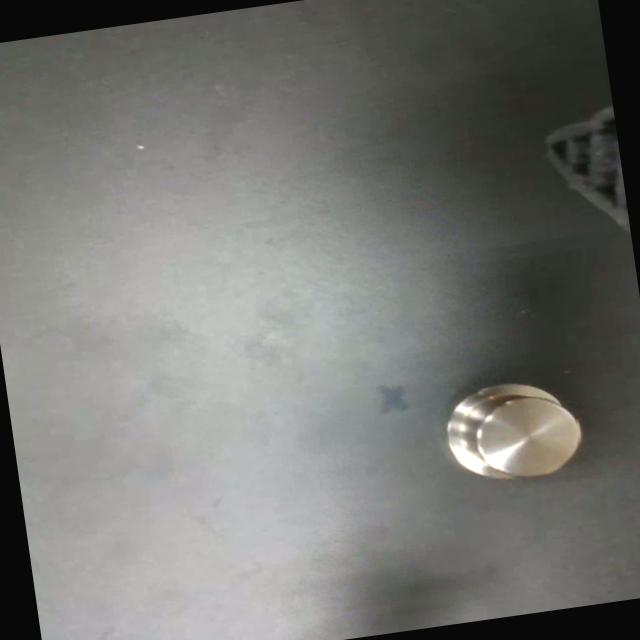sensor: (438, 374, 586, 492)
